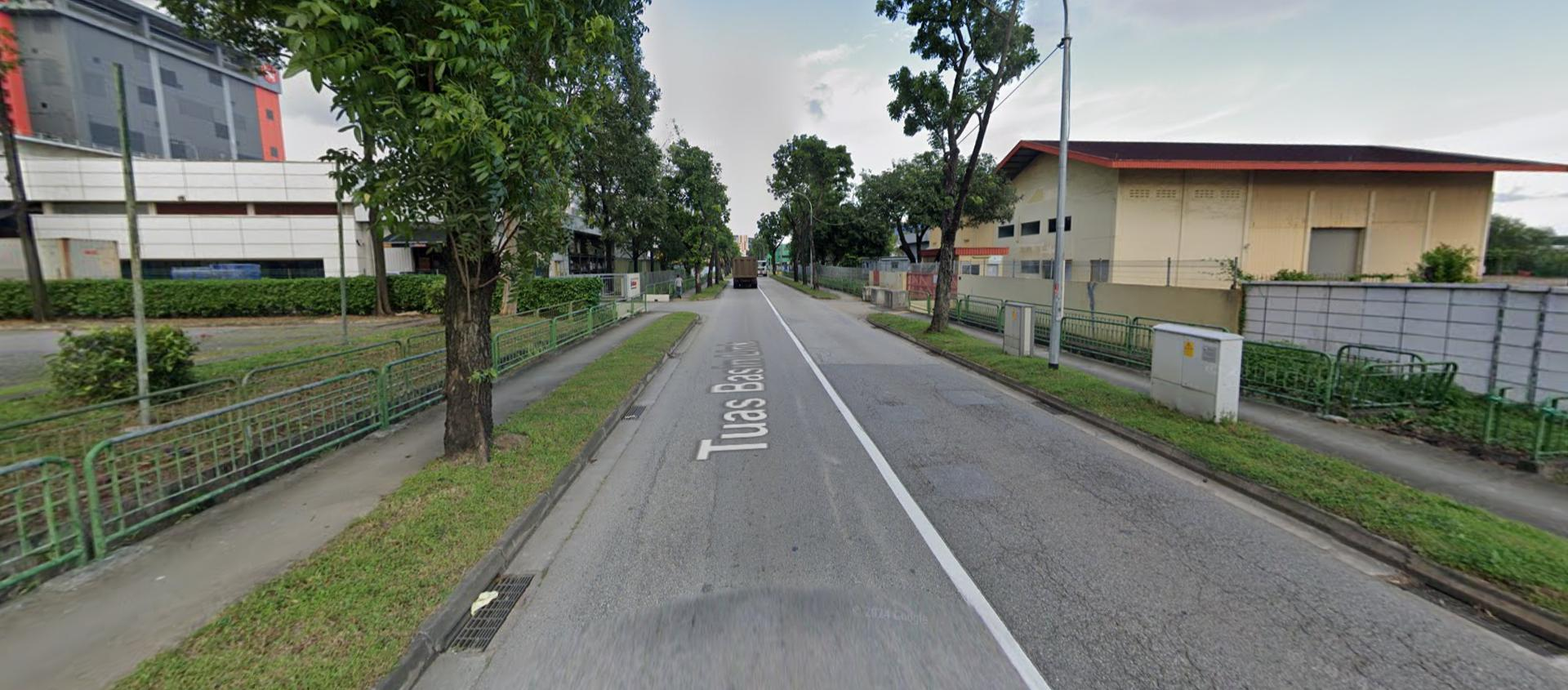normal: (445, 575, 537, 655), (625, 405, 647, 419)
